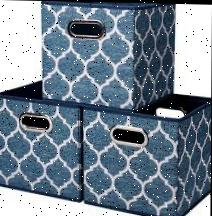cube: (86, 93, 211, 216), (37, 1, 177, 108)
